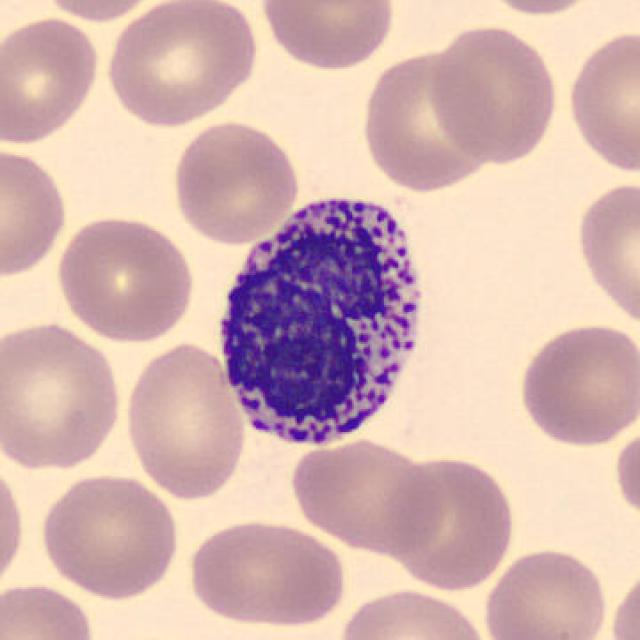Basophil: (203, 178, 439, 460)
RBC: (358, 42, 502, 196), (119, 338, 251, 502), (101, 0, 261, 130), (423, 21, 562, 166), (286, 434, 446, 557), (36, 469, 183, 601), (0, 318, 126, 472), (183, 515, 350, 631), (54, 212, 198, 346), (384, 452, 519, 594), (169, 116, 302, 247), (514, 319, 636, 450), (0, 12, 103, 146), (480, 543, 612, 640), (564, 27, 638, 176), (570, 176, 640, 333), (256, 0, 400, 72), (0, 143, 71, 280), (334, 585, 492, 640), (0, 580, 98, 640), (0, 451, 28, 594), (34, 0, 172, 25), (612, 418, 638, 529), (606, 562, 640, 640), (468, 0, 610, 18)
